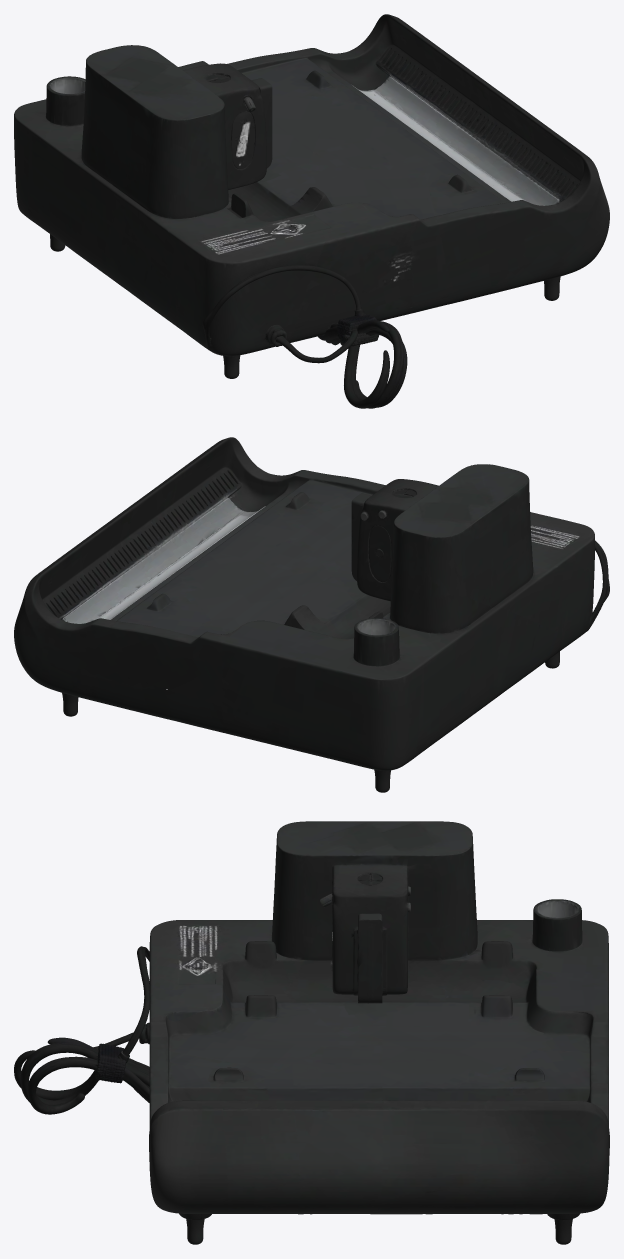
File: Dreame Aero Pro Wet Dry Vacuum DOCK_COMPRESSED.glb
3 renders of one model, top to bottom at view 1: azimuth 30°, elevation 25°; view 2: azimuth 150°, elevation 25°; view 3: azimuth 270°, elevation 25°, orthographic. The views are drawn at different scales.
Parts seen in each view (by area): view 1: tripo_node_2ca3a5a3-8d29-4975-a4a8-64dec86b62ba; view 2: tripo_node_2ca3a5a3-8d29-4975-a4a8-64dec86b62ba; view 3: tripo_node_2ca3a5a3-8d29-4975-a4a8-64dec86b62ba.
Boxes of the visible parts, <box> form: tripo_node_2ca3a5a3-8d29-4975-a4a8-64dec86b62ba: <box>14,14,609,408</box>; tripo_node_2ca3a5a3-8d29-4975-a4a8-64dec86b62ba: <box>14,437,609,792</box>; tripo_node_2ca3a5a3-8d29-4975-a4a8-64dec86b62ba: <box>14,821,609,1244</box>.
Size of the model in its own units: 0.8201 by 0.4432 by 0.9799.
Materials: 1 (1 with a texture image).
